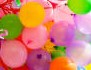Balloon: (1, 41, 27, 69), (19, 2, 45, 28), (22, 24, 48, 50), (65, 40, 91, 66), (50, 20, 74, 47), (1, 14, 22, 40), (27, 50, 51, 70), (66, 1, 91, 13)
